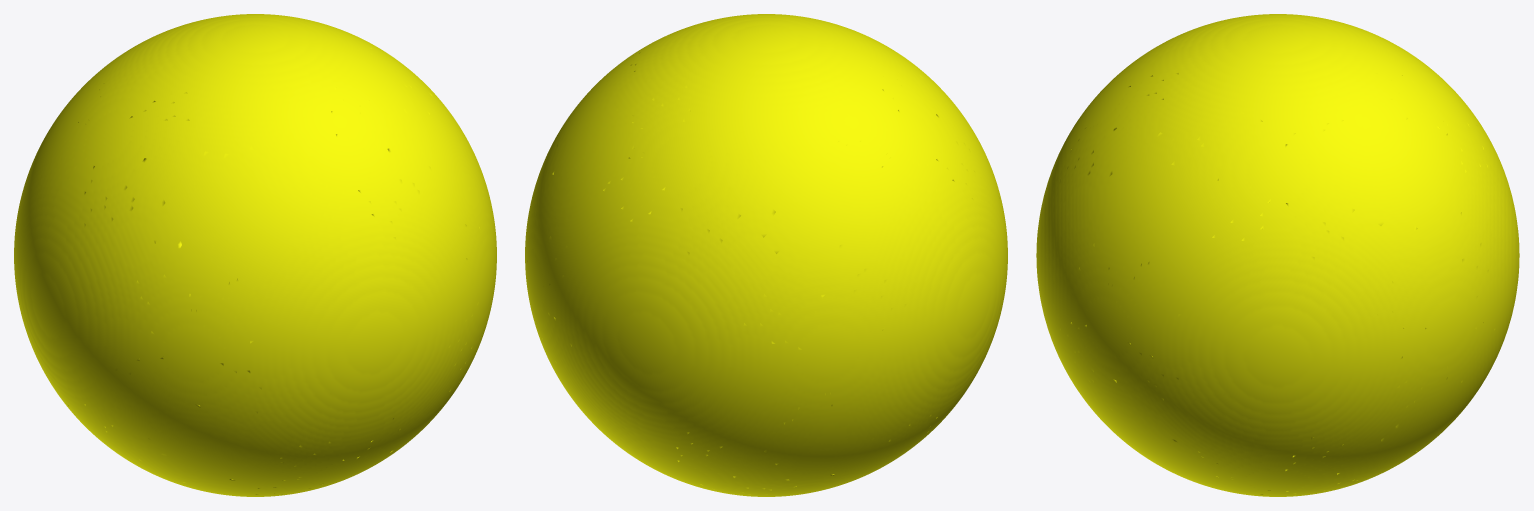
File: orb_n=3_ l=0 _m=0.fbx
3 views of the same model, side by side, from view 1: azimuth 30°, elevation 25°; view 2: azimuth 150°, elevation 25°; view 3: azimuth 270°, elevation 25° (orthographic).
Visible parts, largest first — view 1: orb_n=3_ l=0 _m=0; view 2: orb_n=3_ l=0 _m=0; view 3: orb_n=3_ l=0 _m=0.
Boxes of the visible parts, box(x1,y1,x2,y2) form: orb_n=3_ l=0 _m=0: box(14, 14, 496, 496); orb_n=3_ l=0 _m=0: box(525, 14, 1007, 496); orb_n=3_ l=0 _m=0: box(1036, 14, 1519, 496).
Bounding box in the file's own units: 6129 × 6129 × 6129.
